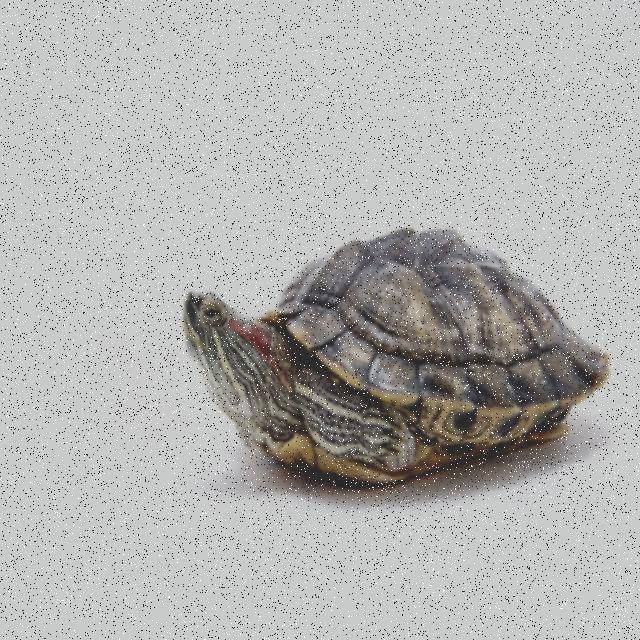tortoise: (175, 220, 620, 498)
